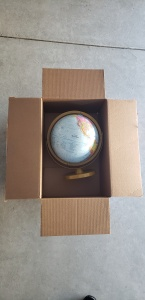innerbox: (42, 97, 111, 199)
outerbox: (8, 67, 142, 236)
product: (47, 110, 102, 179)
